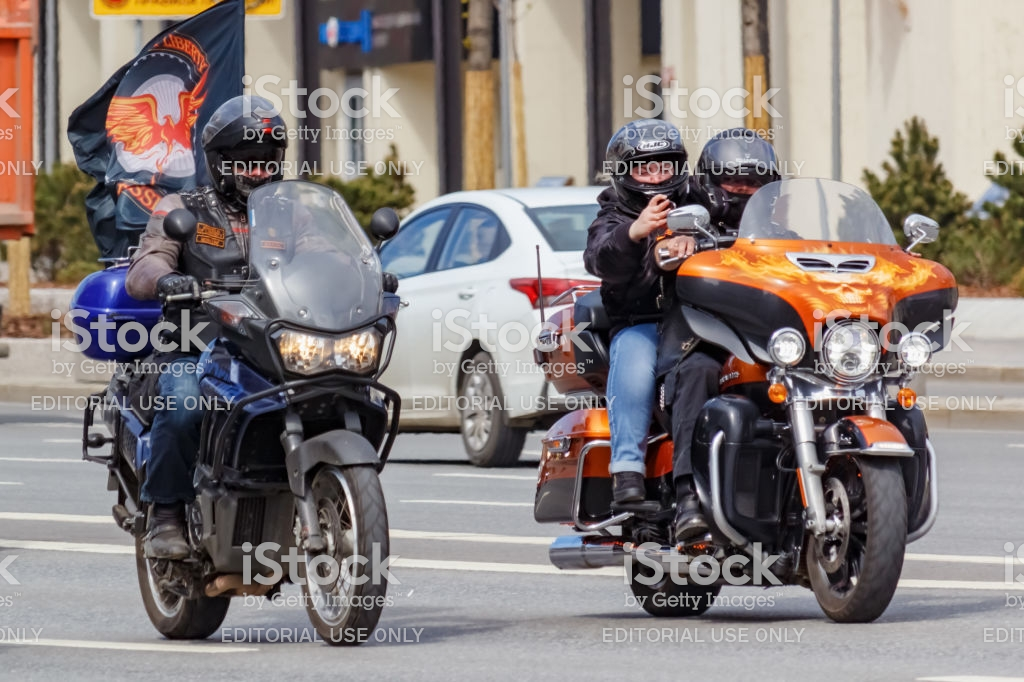helmet: (688, 123, 793, 243), (204, 92, 297, 200), (600, 122, 686, 212)
